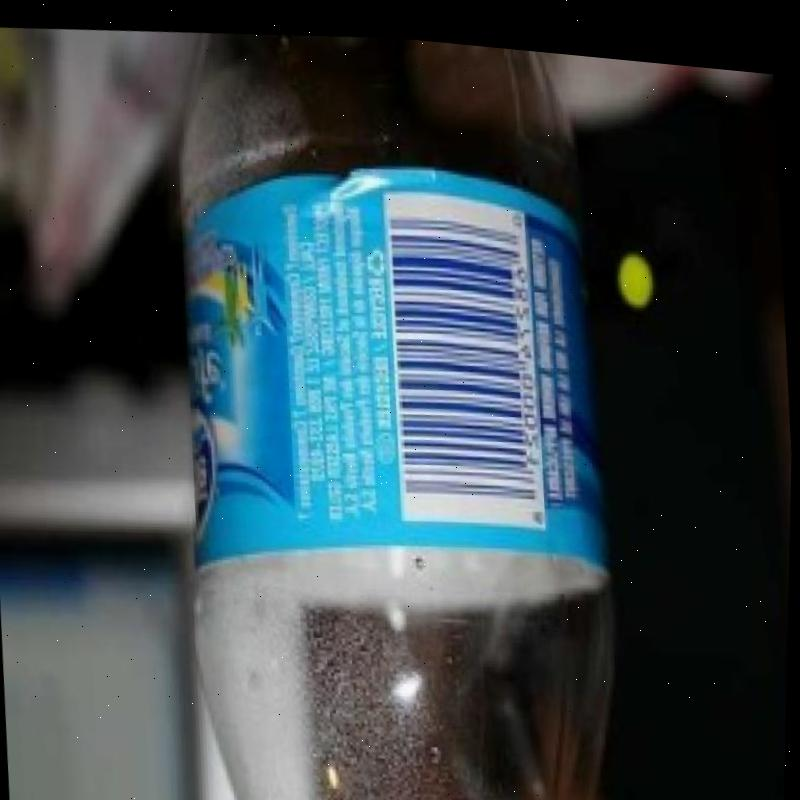botella: (144, 12, 644, 800)
